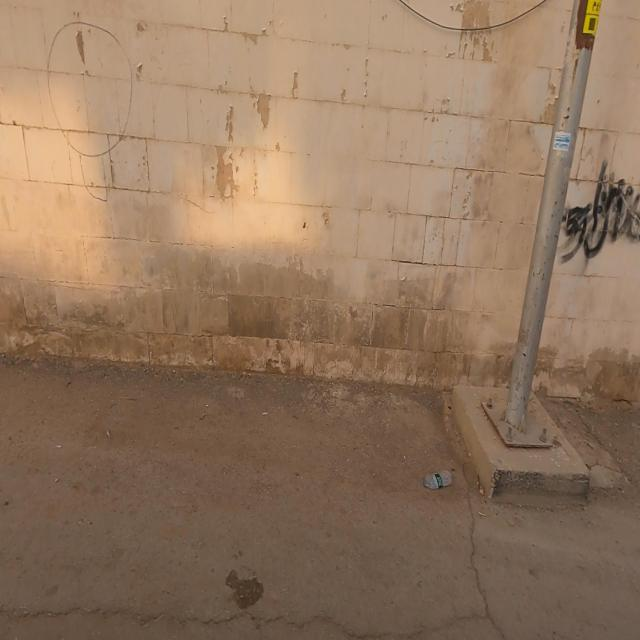Graffiti: (47, 23, 135, 205)
